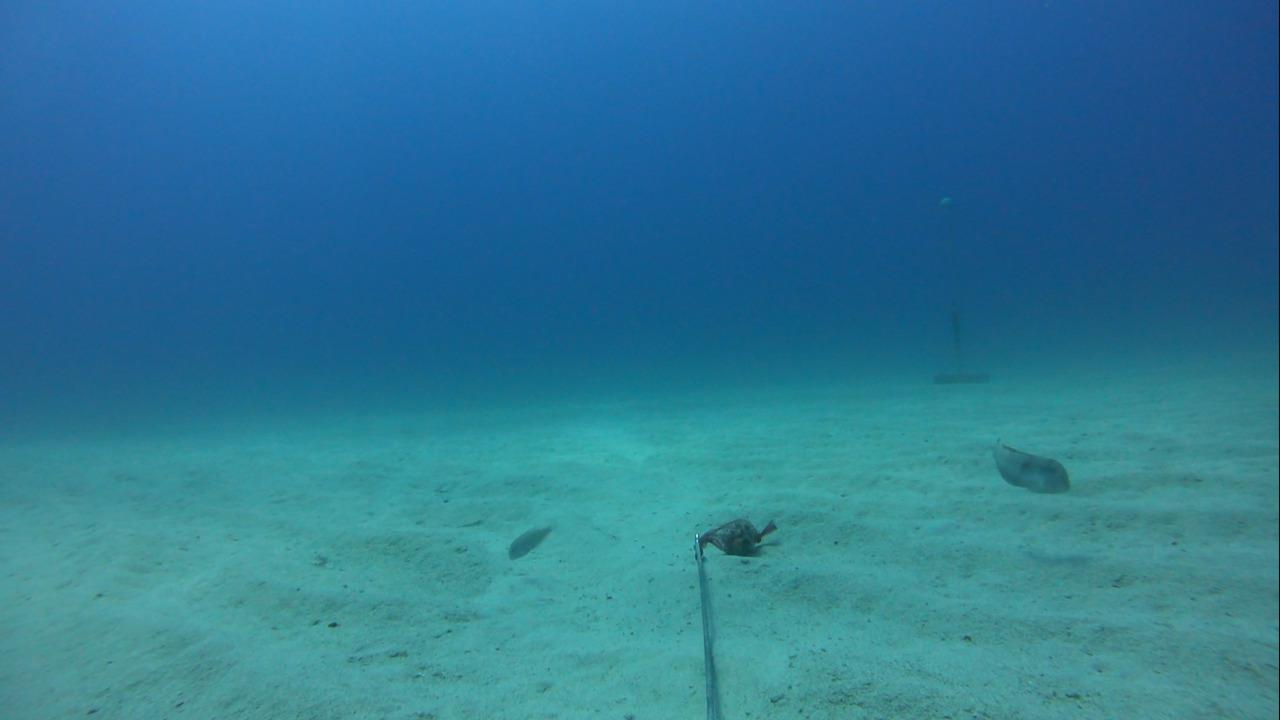raor: (978, 432, 1078, 501), (500, 519, 563, 564)
